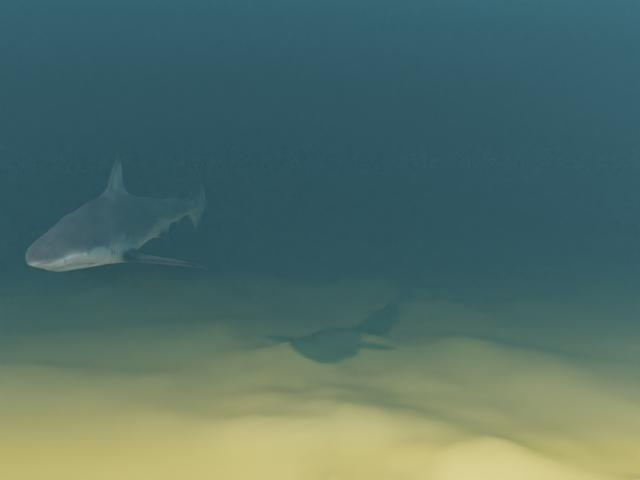Carribean Shark.001: (25, 152, 207, 271)
